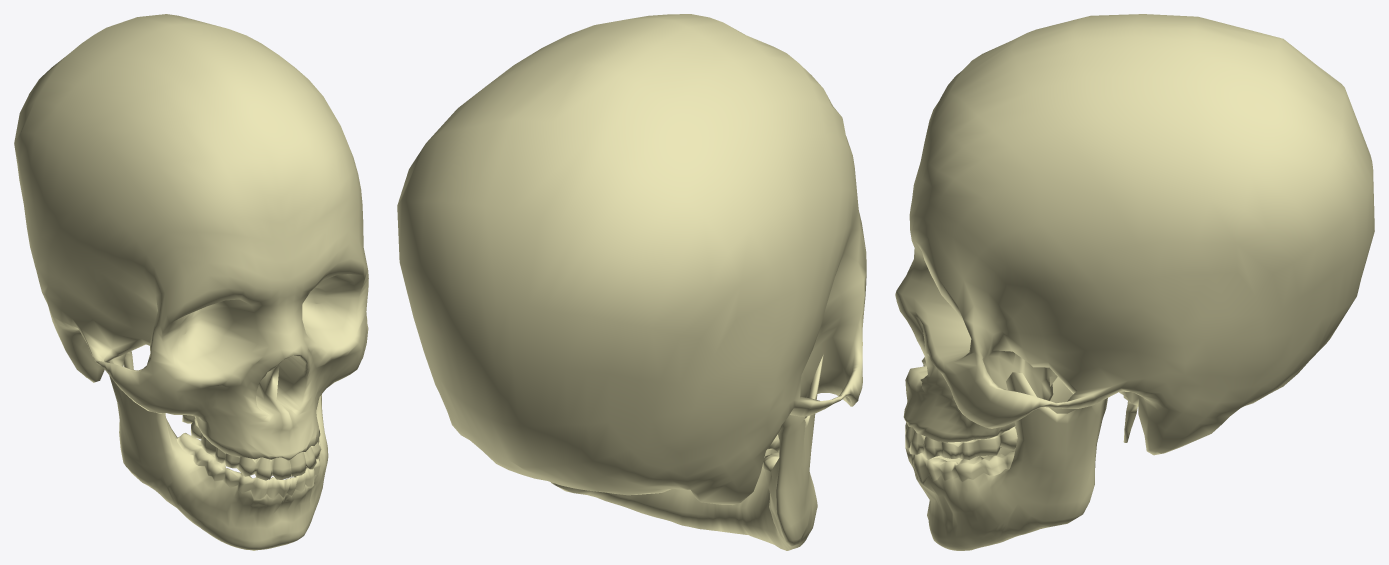
The model's file is Skull_LOD0.fbx.
3 renders of one model, left to right at view 1: azimuth 30°, elevation 25°; view 2: azimuth 150°, elevation 25°; view 3: azimuth 270°, elevation 25°, orthographic. The views are drawn at different scales.
Visible parts, largest first — view 1: Dientes.002; view 2: Dientes.002; view 3: Dientes.002.
Part boxes in pixels (<box>): Dientes.002: <box>14,14,368,550</box>; Dientes.002: <box>397,14,866,550</box>; Dientes.002: <box>895,14,1374,550</box>.
Bounding box in the file's own units: 477 × 728 × 620.
